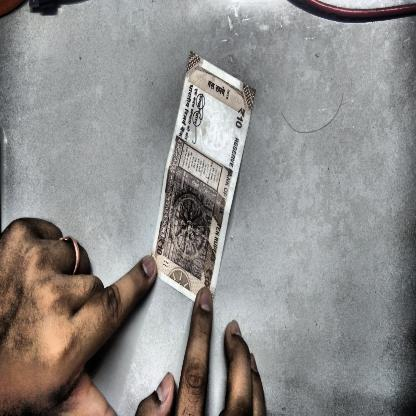Rs10: (233, 102, 248, 132), (154, 232, 168, 260)
